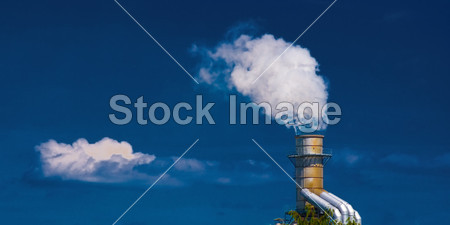dust: (206, 25, 332, 140)
